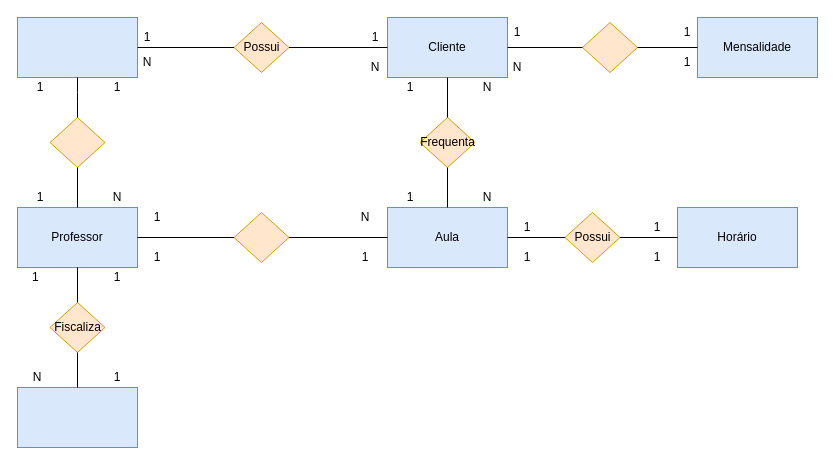
The diagram is 835 pixels wide and 465 high, and some of its shapes have lost their labels. The centre of each missing label's shape, as x and y in pixels:
"Academia" belongs at [77,47].
"Cordena" belongs at [261,237].
"Emprega" belongs at [77,142].
"Equipamentos" belongs at [77,417].
"Recebe" belongs at [610,47].
